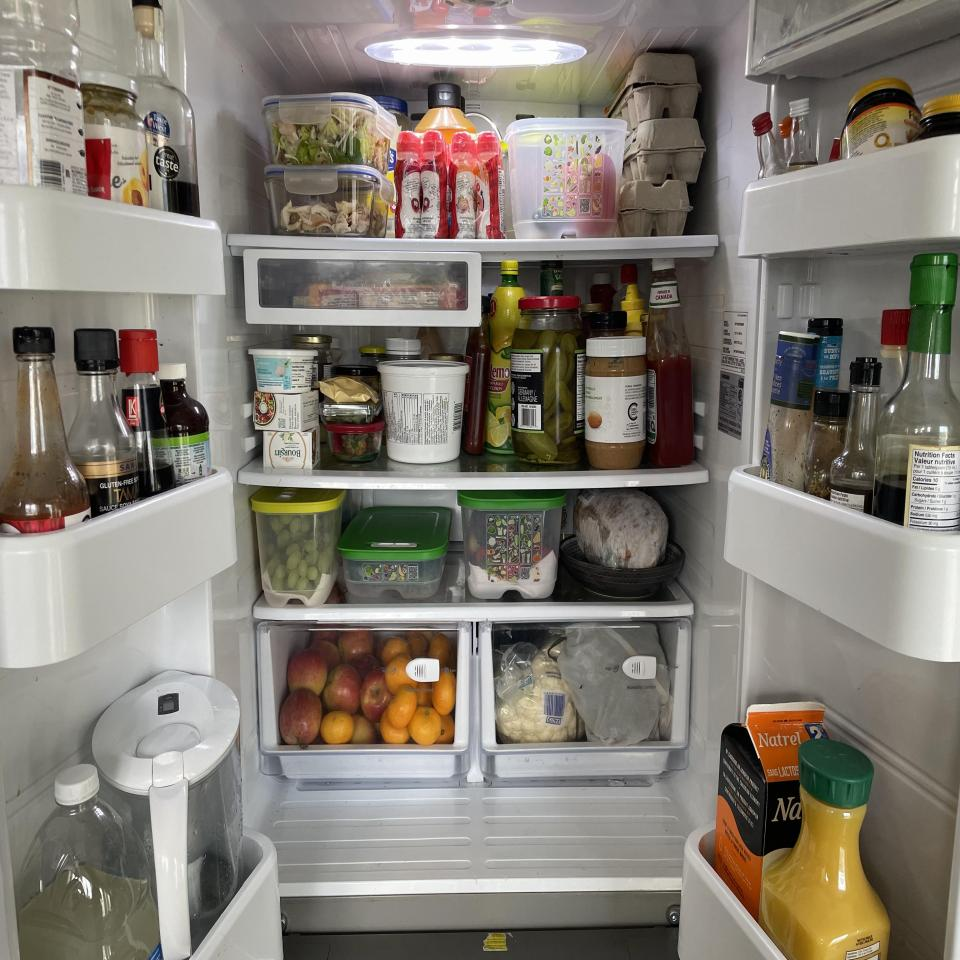Huevos: (608, 52, 698, 130), (625, 118, 705, 184), (618, 182, 693, 238)
Manzana: (279, 690, 321, 746), (325, 663, 360, 713), (289, 654, 326, 695), (362, 671, 388, 719)
ketchup: (644, 256, 692, 465)
orange: (390, 685, 418, 728), (410, 707, 441, 744), (321, 710, 353, 744), (432, 670, 456, 715), (380, 708, 410, 742), (389, 654, 416, 689)
